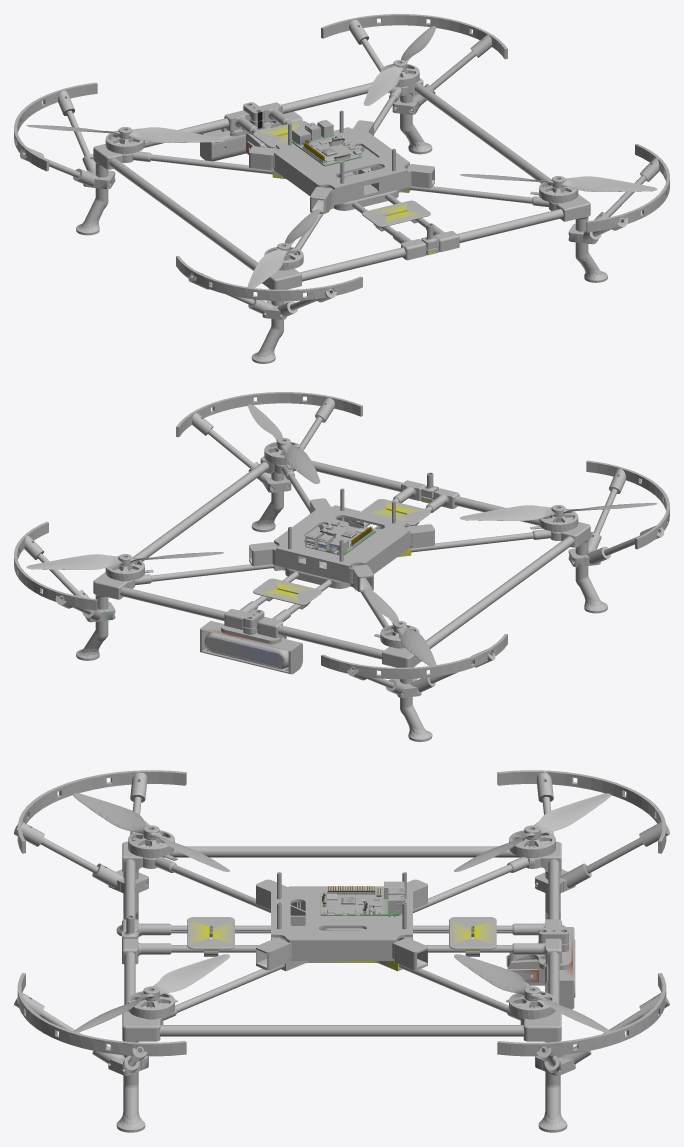
File: avion_twin.glb
The picture shows the model from 3 angles, top to bottom: view 1: azimuth 30°, elevation 25°; view 2: azimuth 150°, elevation 25°; view 3: azimuth 270°, elevation 25°; orthographic projection. The views are drawn at different scales.
Visible parts, largest first — view 1: avionics_0, guard_5, guard_2, guard_4, guard_3, tube_40, camera_1, tube_37, tube_38, prop_9, prop_6, tube_39 (+17 smaller); view 2: avionics_0, guard_3, camera_1, guard_4, guard_2, guard_5, tube_39, tube_37, tube_38, prop_7, prop_8, tube_40 (+17 smaller); view 3: avionics_0, guard_2, guard_4, tube_38, guard_3, guard_5, tube_37, camera_1, prop_6, prop_8, prop_7, prop_9 (+24 smaller).
Boxes of the visible parts, x1,y1,x2,y2 form: avionics_0: [249, 120, 434, 214]; guard_5: [321, 14, 507, 114]; guard_2: [176, 256, 362, 319]; guard_4: [14, 82, 115, 189]; guard_3: [568, 143, 669, 244]; tube_40: [300, 209, 563, 281]; camera_1: [200, 102, 302, 161]; tube_37: [109, 158, 257, 270]; tube_38: [414, 83, 551, 183]; prop_9: [26, 125, 224, 142]; prop_6: [460, 174, 657, 191]; tube_39: [144, 82, 372, 147]; avionics_0: [249, 498, 434, 592]; guard_3: [176, 392, 362, 492]; camera_1: [200, 609, 302, 674]; guard_4: [321, 634, 507, 697]; guard_2: [568, 460, 669, 567]; guard_5: [14, 521, 115, 622]; tube_39: [120, 587, 383, 659]; tube_37: [426, 536, 574, 648]; tube_38: [132, 461, 269, 561]; prop_7: [459, 503, 657, 520]; prop_8: [26, 552, 223, 569]; tube_40: [311, 460, 539, 525]; avionics_0: [256, 879, 427, 970]; guard_2: [14, 770, 186, 893]; guard_4: [497, 770, 669, 893]; tube_38: [159, 1025, 524, 1036]; guard_3: [14, 973, 186, 1075]; guard_5: [497, 973, 669, 1075]; tube_37: [163, 846, 520, 857]; camera_1: [506, 927, 575, 1009]; prop_6: [73, 954, 229, 1032]; prop_8: [454, 954, 610, 1032]; prop_7: [73, 793, 229, 871]; prop_9: [454, 793, 610, 871].
Size of the model in its own units: 0.6893 by 0.1635 by 0.6893.
